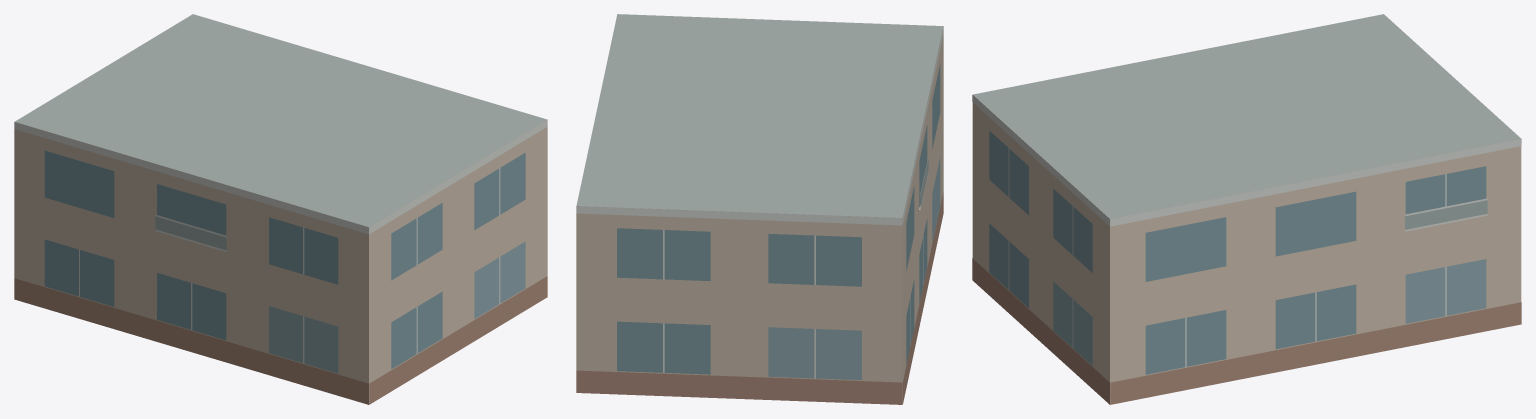
File: survey-upis-32708889.glb
3 renders of one model, left to right at view 1: azimuth 30°, elevation 25°; view 2: azimuth 150°, elevation 25°; view 3: azimuth 270°, elevation 25°, orthographic. The views are drawn at different scales.
Visible parts, largest first — view 1: survey-upis-32708889.tmp; view 2: survey-upis-32708889.tmp; view 3: survey-upis-32708889.tmp.
Part boxes in pixels (<box>): survey-upis-32708889.tmp: <box>14,14,547,404</box>; survey-upis-32708889.tmp: <box>576,14,943,404</box>; survey-upis-32708889.tmp: <box>972,14,1521,404</box>.
Size of the model in its own units: 14.47 by 6.1 by 16.35.
